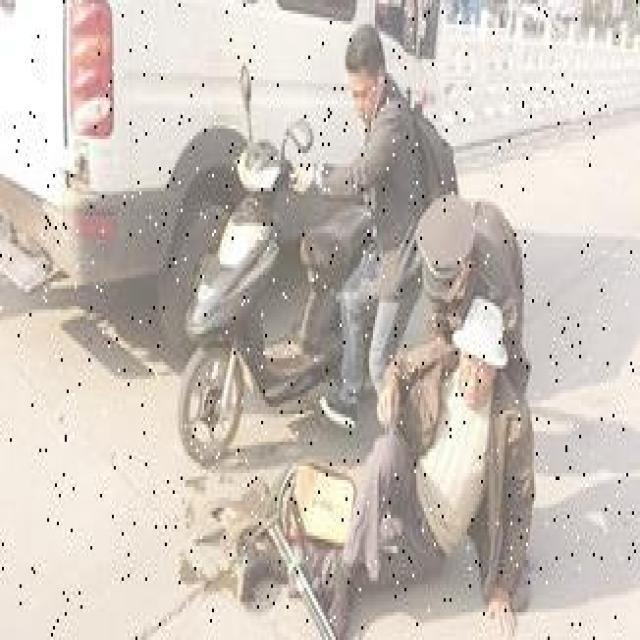fall: (250, 313, 522, 612)
